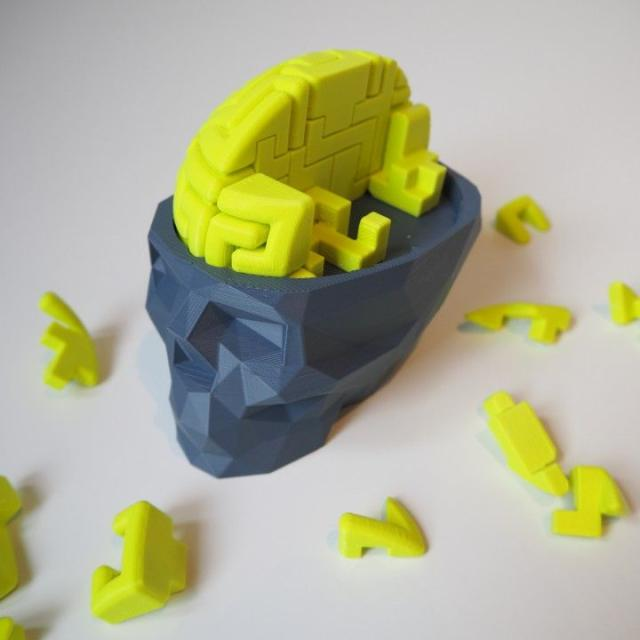Without deffect: (127, 37, 467, 487)
